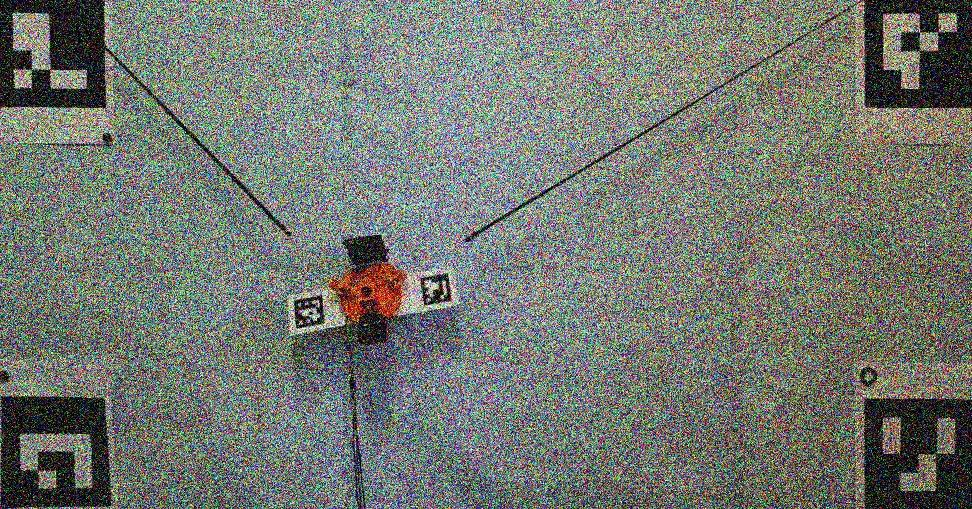robot: (330, 234, 406, 345)
